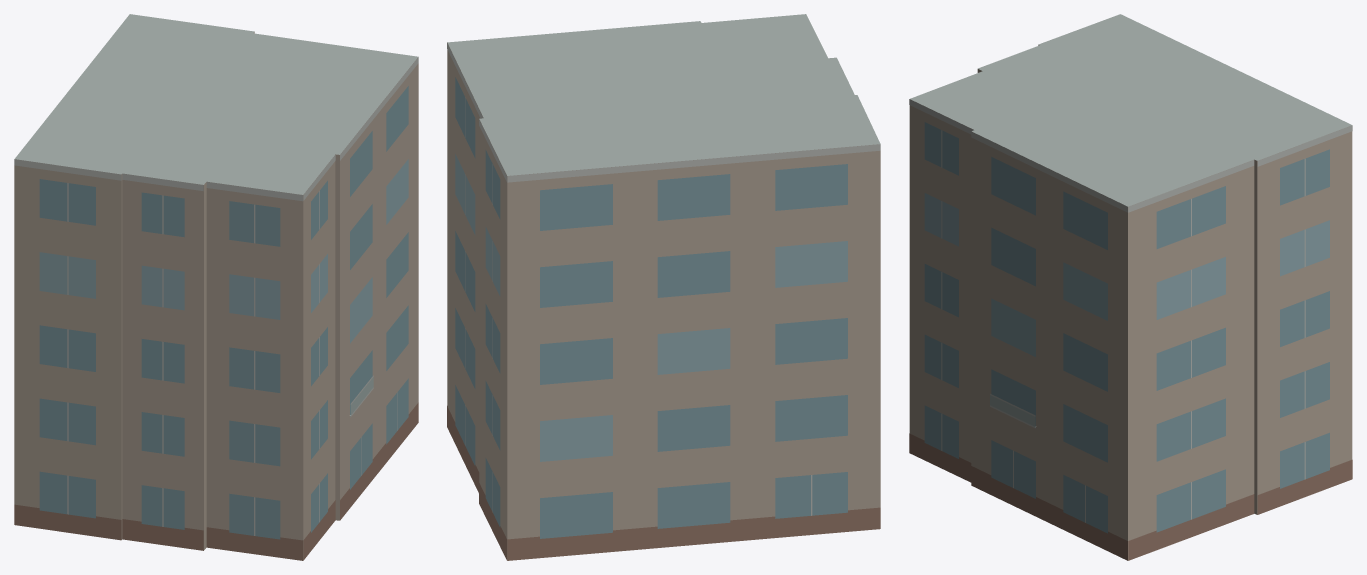
File: survey-upis-32729309.glb
The picture shows the model from 3 angles, left to right: view 1: azimuth 30°, elevation 25°; view 2: azimuth 150°, elevation 25°; view 3: azimuth 270°, elevation 25°; orthographic projection. The views are drawn at different scales.
Parts seen in each view (by area): view 1: survey-upis-32729309.tmp; view 2: survey-upis-32729309.tmp; view 3: survey-upis-32729309.tmp.
Part boxes in pixels (x1,y1,x2,y2): survey-upis-32729309.tmp: (14, 14, 418, 560); survey-upis-32729309.tmp: (447, 14, 880, 560); survey-upis-32729309.tmp: (909, 14, 1352, 560).
Size of the model in its own units: 16.58 by 14.2 by 16.1.
